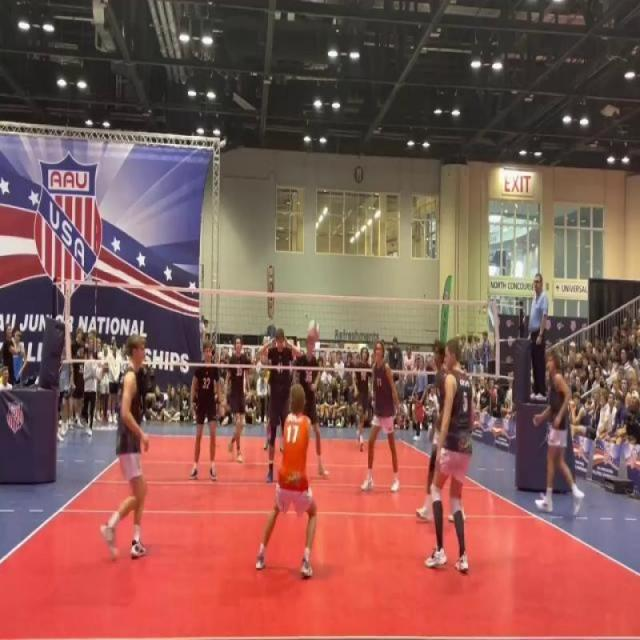volleyball: (306, 317, 321, 344)
